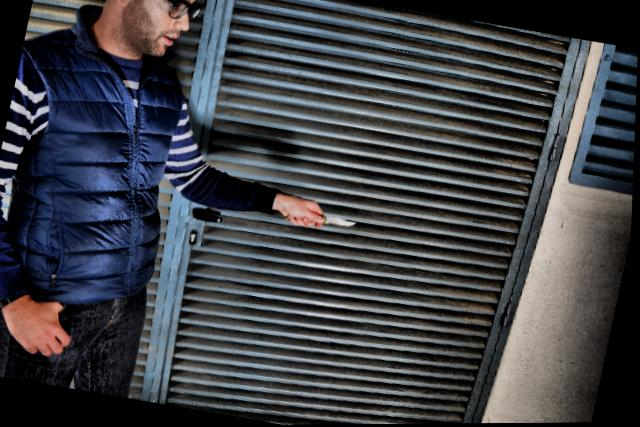knife: (282, 206, 362, 237)
